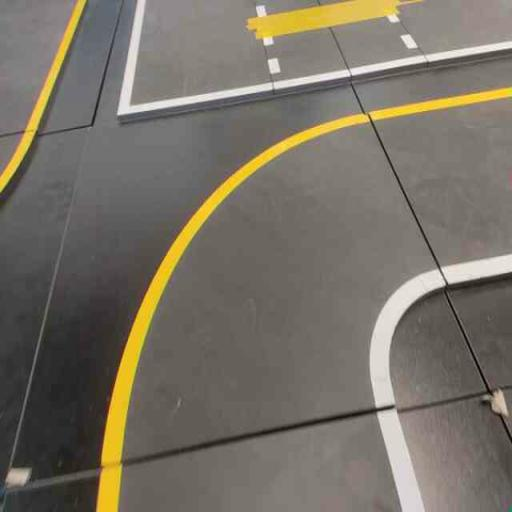right: (59, 80, 491, 478)
